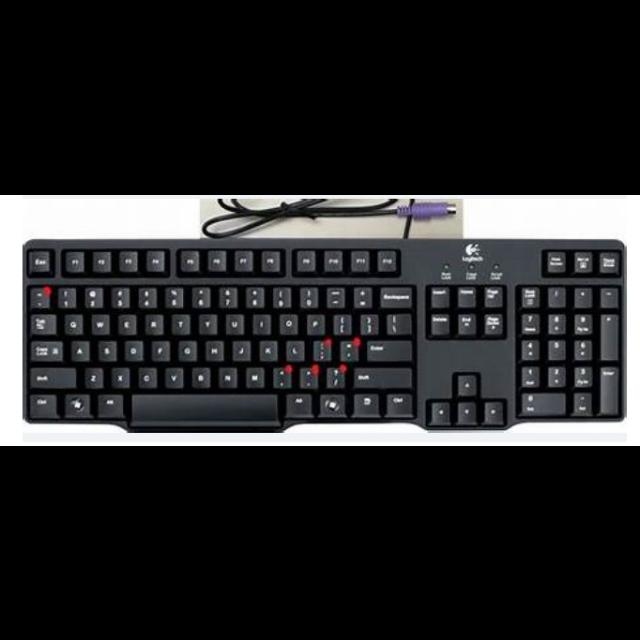Computer-Keyboard: (22, 238, 628, 433)
